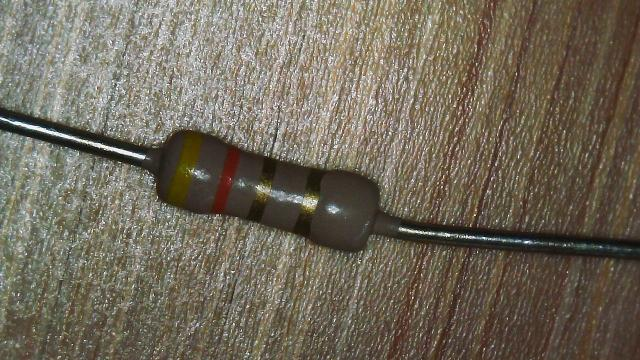gold: (295, 168, 322, 236), (248, 158, 276, 222)
orange: (212, 146, 240, 213)
resistor: (128, 96, 397, 289)
yellow: (171, 135, 201, 204)
